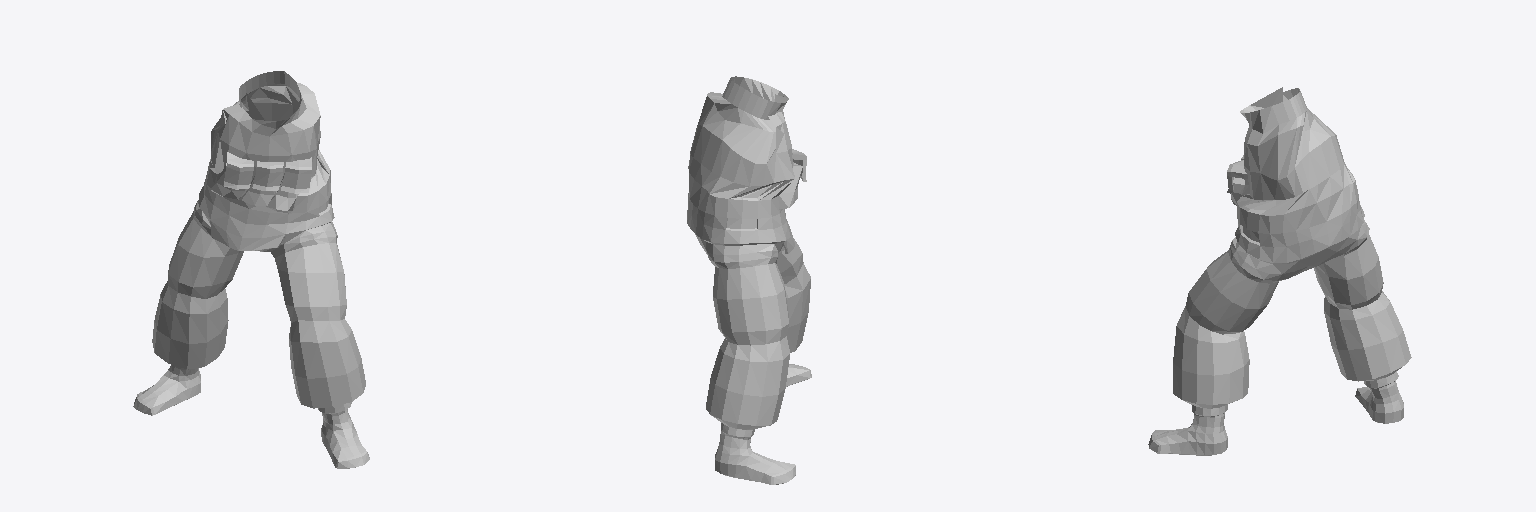
The model's file is Player_Body.obj.
The picture shows the model from 3 angles: view 1: azimuth 30°, elevation 25°; view 2: azimuth 150°, elevation 25°; view 3: azimuth 270°, elevation 25°; orthographic projection.
Visible parts, largest first — view 1: Body001; view 2: Body001; view 3: Body001.
Boxes of the visible parts, box(x1,y1,x2,y2) form: Body001: box(133, 71, 369, 468); Body001: box(687, 76, 811, 484); Body001: box(1148, 87, 1411, 455).
Size of the model in its own units: 0.6847 by 1.59 by 1.09.